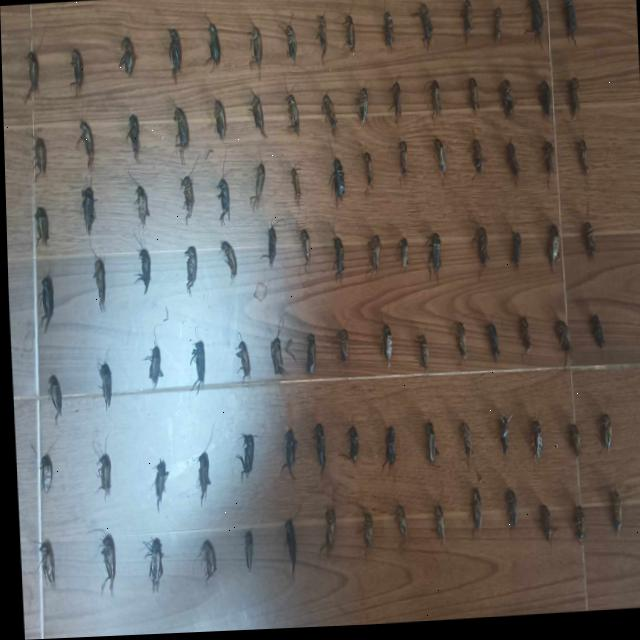egg: (140, 538, 160, 592), (97, 534, 112, 596), (172, 108, 188, 164), (142, 341, 160, 389), (233, 435, 251, 483), (76, 120, 93, 169), (525, 1, 543, 47), (150, 459, 165, 512), (248, 163, 264, 212), (328, 160, 344, 209), (37, 275, 51, 331), (278, 430, 293, 481), (194, 540, 212, 581), (35, 540, 51, 586), (218, 242, 235, 285), (24, 50, 38, 101), (188, 341, 202, 392), (280, 520, 292, 579), (79, 187, 94, 234), (417, 6, 432, 53), (249, 96, 265, 140), (167, 30, 180, 84), (497, 83, 515, 122), (194, 453, 207, 507), (45, 374, 59, 424), (258, 227, 274, 270), (123, 119, 138, 164), (215, 179, 229, 227), (91, 256, 103, 311), (562, 0, 576, 47), (95, 359, 108, 409), (207, 23, 220, 72), (321, 94, 336, 136), (179, 177, 192, 225), (133, 186, 148, 226), (183, 247, 195, 297), (233, 342, 248, 382), (69, 48, 82, 94), (457, 425, 470, 471), (473, 230, 487, 272), (119, 37, 134, 76), (94, 452, 107, 497), (379, 429, 392, 473), (311, 425, 322, 476), (566, 82, 579, 125), (31, 137, 45, 176), (505, 147, 518, 188), (33, 206, 47, 244), (251, 27, 261, 80), (460, 2, 472, 46), (212, 101, 225, 141), (579, 225, 593, 262), (515, 320, 529, 357), (552, 325, 567, 359), (587, 319, 602, 353), (268, 337, 281, 376), (315, 17, 326, 63), (379, 326, 390, 372), (467, 491, 478, 537), (137, 249, 148, 294), (536, 85, 549, 123), (536, 508, 549, 546), (433, 142, 445, 183), (331, 237, 342, 281), (286, 96, 298, 136), (37, 453, 49, 493), (497, 417, 509, 457), (297, 231, 308, 274), (422, 424, 433, 467), (344, 427, 356, 466), (501, 493, 513, 532), (541, 145, 552, 187), (428, 83, 440, 121), (367, 237, 379, 275), (343, 16, 354, 57), (321, 508, 331, 553), (284, 26, 296, 63), (485, 327, 497, 364), (288, 169, 299, 209), (429, 237, 439, 281), (547, 228, 557, 271), (415, 337, 426, 376), (334, 332, 346, 367), (359, 515, 369, 557), (529, 424, 539, 466), (392, 508, 403, 546), (382, 14, 393, 51), (467, 81, 478, 118), (361, 154, 371, 194), (597, 419, 608, 455), (569, 510, 580, 546), (608, 495, 617, 539), (304, 328, 313, 371), (453, 326, 463, 364), (240, 531, 249, 573), (566, 429, 577, 463), (391, 83, 400, 124), (472, 143, 482, 179), (578, 144, 587, 183), (510, 235, 519, 274), (357, 89, 366, 127), (397, 143, 406, 181), (492, 9, 501, 46), (396, 240, 406, 271), (432, 508, 440, 546), (212, 48, 218, 53)
